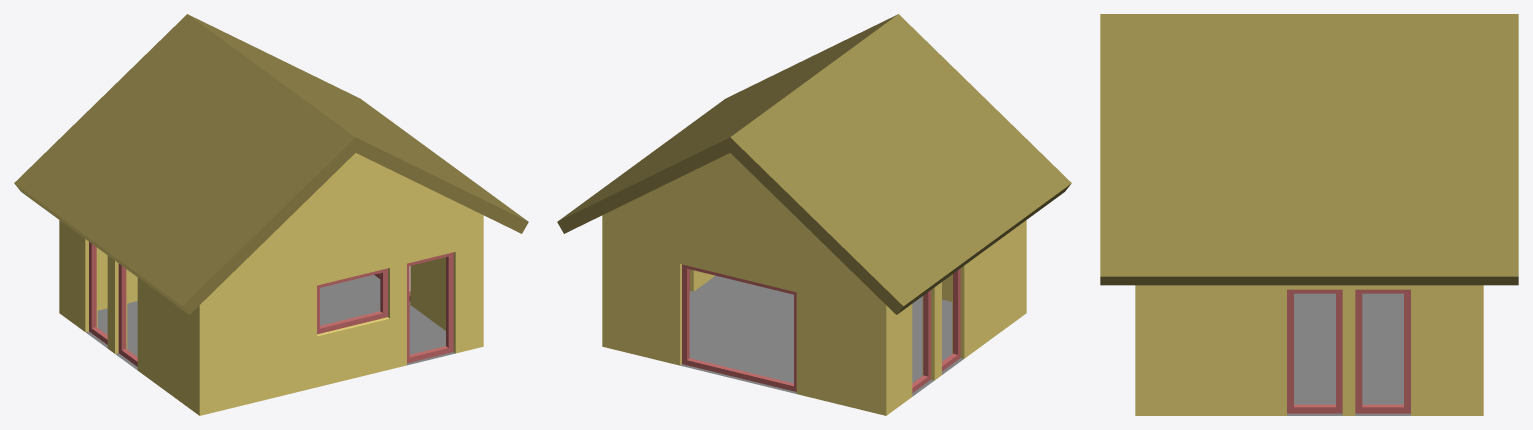
The model's file is result.glb.
3 views of the same model, side by side, from view 1: azimuth 30°, elevation 25°; view 2: azimuth 150°, elevation 25°; view 3: azimuth 270°, elevation 25° (orthographic). The views are drawn at different scales.
Parts seen in each view (by area): view 1: e1431efc-56c3-49c9-bd34-880874315e34__undefined (×2), b3300668-2275-47af-9dd5-216a78129fba__undefined, 03ef5aaf-77e8-4ec8-a080-be6ebedeb88c__Plane_8, 5865c621-4d8c-44e6-8016-d4c02a5aa39b__Box, 93ca52ff-e0c2-426b-86ba-a29d9d8e5880__Box_3, d21f03a8-3136-428d-91de-915d38e3c294__Box_12, 365847fe-58d9-4a49-875b-130ec25c82fd__Box_15; view 2: e1431efc-56c3-49c9-bd34-880874315e34__undefined (×2), b3300668-2275-47af-9dd5-216a78129fba__undefined, 03ef5aaf-77e8-4ec8-a080-be6ebedeb88c__Plane_8, 5b0513b8-abef-4034-bd1e-7ba3109478ab__Box_9, d21f03a8-3136-428d-91de-915d38e3c294__Box_12, 365847fe-58d9-4a49-875b-130ec25c82fd__Box_15; view 3: e1431efc-56c3-49c9-bd34-880874315e34__undefined, b3300668-2275-47af-9dd5-216a78129fba__undefined, 03ef5aaf-77e8-4ec8-a080-be6ebedeb88c__Plane_8, d6d2e01f-2426-4c79-ba6a-b85caebbc570__Box_21, c76d34cf-d9d3-4553-ae6b-9072426ed035__Box_18.
Part boxes in pixels (bbox=[...]): e1431efc-56c3-49c9-bd34-880874315e34__undefined (×2): bbox=[14, 14, 528, 314]; b3300668-2275-47af-9dd5-216a78129fba__undefined: bbox=[59, 153, 483, 415]; 03ef5aaf-77e8-4ec8-a080-be6ebedeb88c__Plane_8: bbox=[86, 275, 455, 370]; 5865c621-4d8c-44e6-8016-d4c02a5aa39b__Box: bbox=[407, 252, 453, 363]; 93ca52ff-e0c2-426b-86ba-a29d9d8e5880__Box_3: bbox=[317, 268, 387, 334]; d21f03a8-3136-428d-91de-915d38e3c294__Box_12: bbox=[118, 264, 137, 366]; 365847fe-58d9-4a49-875b-130ec25c82fd__Box_15: bbox=[89, 242, 107, 344]; e1431efc-56c3-49c9-bd34-880874315e34__undefined (×2): bbox=[557, 14, 1071, 314]; b3300668-2275-47af-9dd5-216a78129fba__undefined: bbox=[602, 153, 1026, 415]; 03ef5aaf-77e8-4ec8-a080-be6ebedeb88c__Plane_8: bbox=[680, 275, 963, 396]; 5b0513b8-abef-4034-bd1e-7ba3109478ab__Box_9: bbox=[682, 264, 796, 391]; d21f03a8-3136-428d-91de-915d38e3c294__Box_12: bbox=[942, 268, 960, 371]; 365847fe-58d9-4a49-875b-130ec25c82fd__Box_15: bbox=[912, 290, 930, 392]; e1431efc-56c3-49c9-bd34-880874315e34__undefined: bbox=[1100, 14, 1518, 285]; b3300668-2275-47af-9dd5-216a78129fba__undefined: bbox=[1135, 285, 1483, 415]; 03ef5aaf-77e8-4ec8-a080-be6ebedeb88c__Plane_8: bbox=[1287, 293, 1410, 415]; d6d2e01f-2426-4c79-ba6a-b85caebbc570__Box_21: bbox=[1355, 289, 1410, 413]; c76d34cf-d9d3-4553-ae6b-9072426ed035__Box_18: bbox=[1287, 289, 1342, 413].
Bounding box in the file's own units: 713 × 500 × 600.
